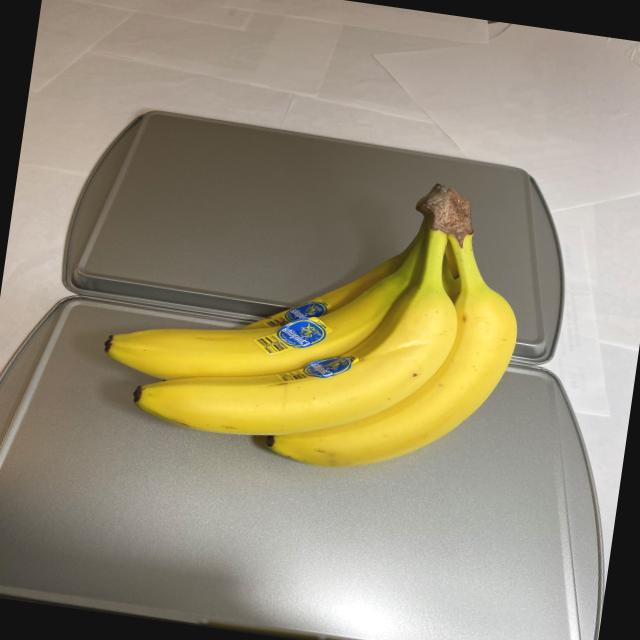banana: (78, 136, 540, 500)
